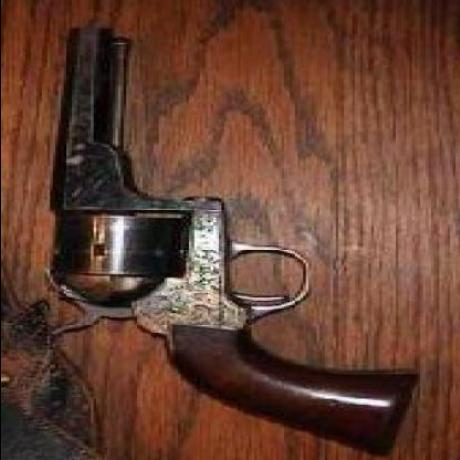weapon: (40, 26, 410, 452)
